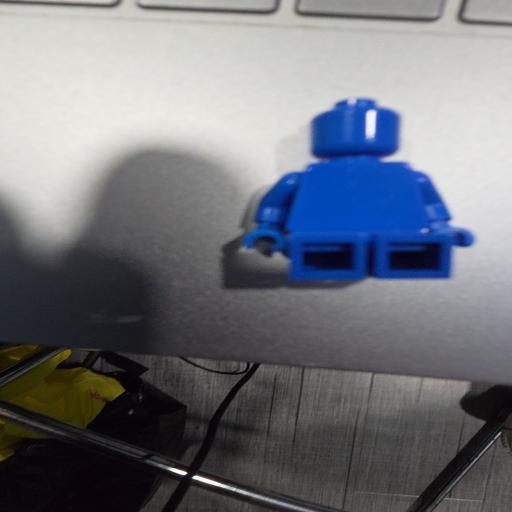Blue: (242, 98, 474, 282)
